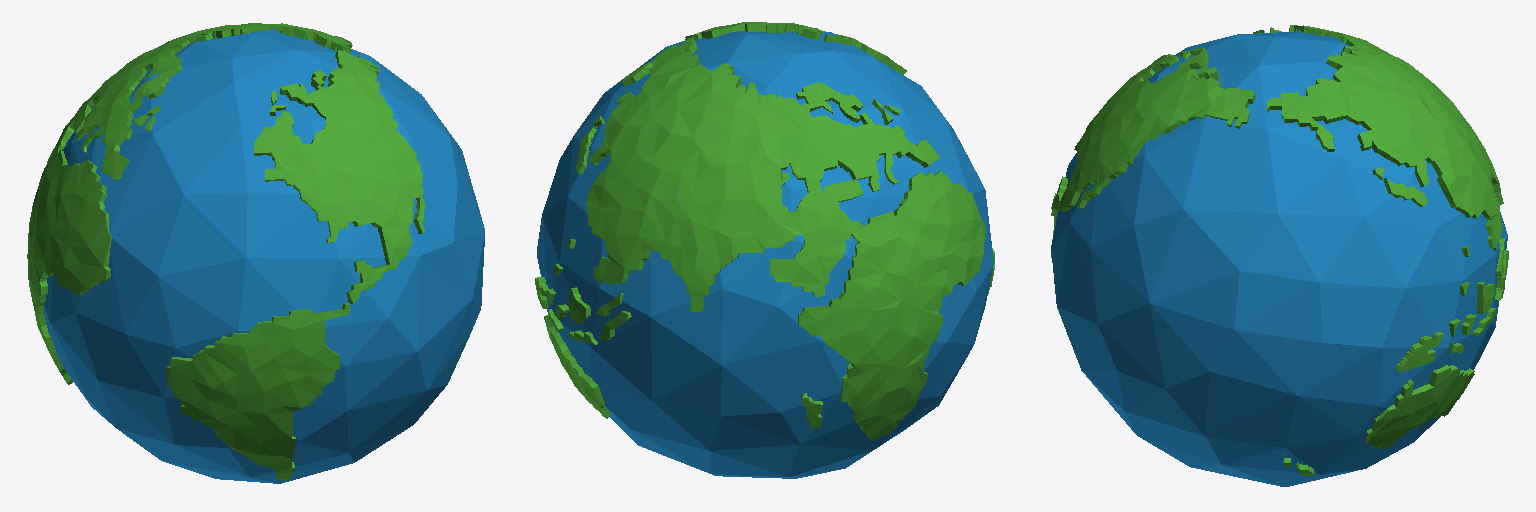
The model's file is planeta.obj.
The picture shows the model from 3 angles: view 1: azimuth 30°, elevation 25°; view 2: azimuth 150°, elevation 25°; view 3: azimuth 270°, elevation 25°; orthographic projection.
Visible parts, largest first — view 1: Oceans, Land_; view 2: Land_, Oceans; view 3: Oceans, Land_.
Boxes of the visible parts, x1,y1,x2,y2 form: Oceans: [43, 29, 484, 483]; Land_: [27, 23, 425, 480]; Land_: [535, 22, 994, 439]; Oceans: [537, 31, 993, 478]; Oceans: [1051, 31, 1507, 486]; Land_: [1051, 25, 1508, 475].
Size of the model in its own units: 825 by 825 by 829.